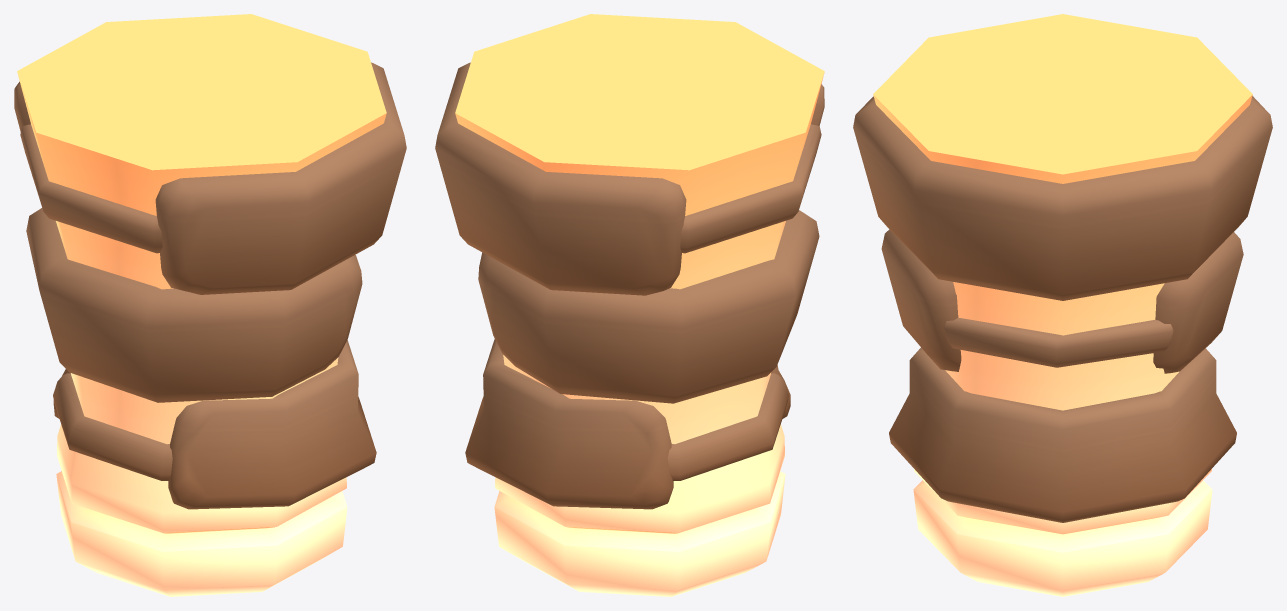
Rendered from wood_grip_115_004.glb.
3 renders of one model, left to right at view 1: azimuth 30°, elevation 25°; view 2: azimuth 150°, elevation 25°; view 3: azimuth 270°, elevation 25°, orthographic.
Visible parts, largest first — view 1: wood_grip_115.004; view 2: wood_grip_115.004; view 3: wood_grip_115.004.
Boxes of the visible parts, x1,y1,x2,y2 form: wood_grip_115.004: [14, 14, 406, 596]; wood_grip_115.004: [435, 14, 824, 596]; wood_grip_115.004: [853, 14, 1272, 596].
Size of the model in its own units: 2.79 by 3.48 by 2.93.
Materials: 1 (1 with a texture image).
